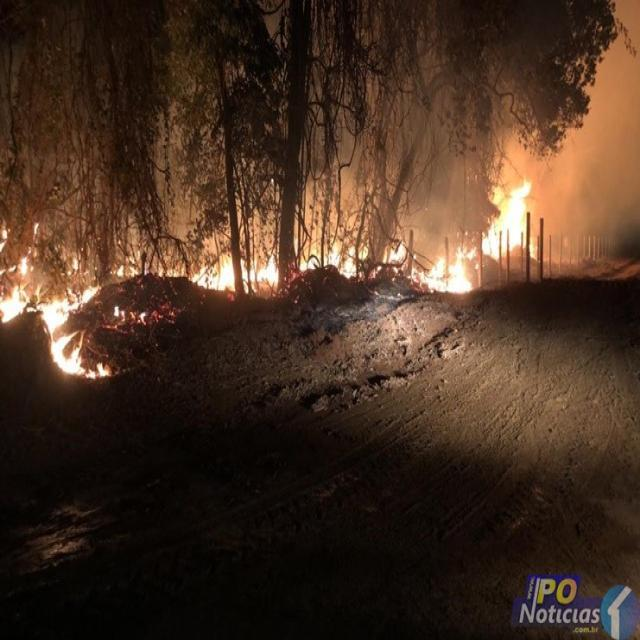Fire: (491, 189, 530, 258), (430, 258, 470, 292), (44, 297, 80, 333), (0, 280, 29, 324), (196, 260, 238, 290), (58, 346, 86, 374), (252, 261, 282, 284)
